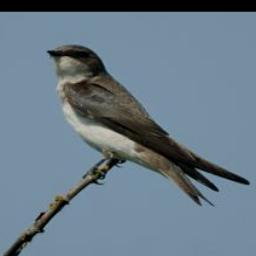Swallow: (45, 43, 250, 207)
